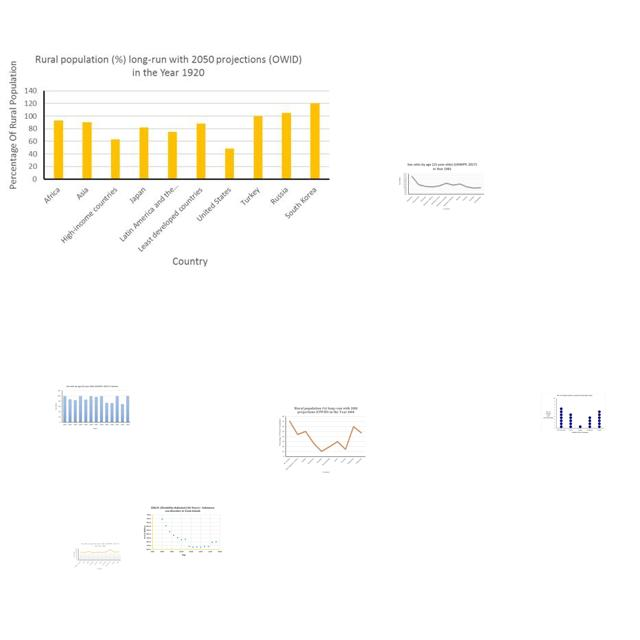Graph: (0, 48, 335, 275), (278, 406, 366, 474), (398, 161, 486, 211), (142, 505, 223, 557), (52, 383, 133, 431), (541, 393, 606, 435), (72, 542, 122, 570)
